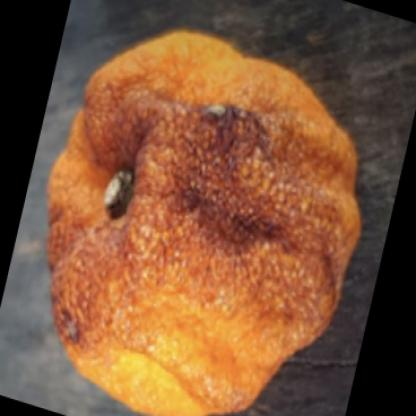rotten: (46, 28, 358, 416)
